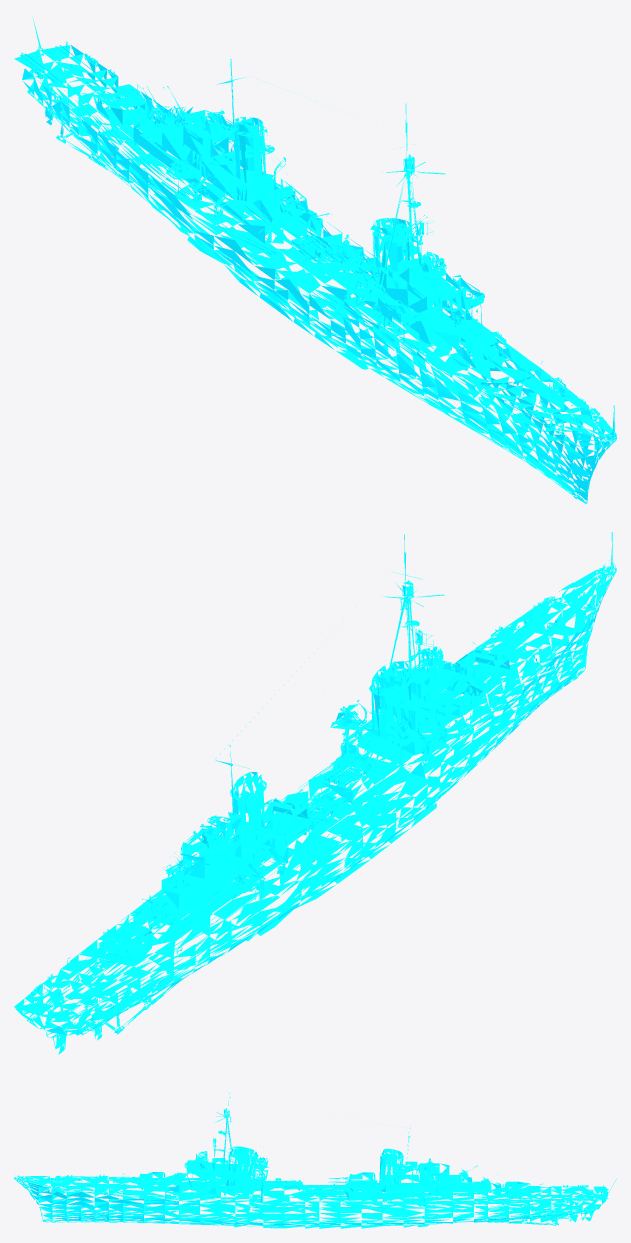
The model's file is PGSD720.glb.
3 views of the same model, one above another, from view 1: azimuth 30°, elevation 25°; view 2: azimuth 150°, elevation 25°; view 3: azimuth 270°, elevation 25° (orthographic). The views are drawn at different scales.
Visible parts, largest first — view 1: hull, turret; view 2: hull, turret; view 3: hull, turret.
Part boxes in pixels (x1=…): hull: x1=14, y1=17, x2=616, y2=503; turret: x1=86, y1=78, x2=521, y2=371; hull: x1=14, y1=532, x2=616, y2=1054; turret: x1=86, y1=629, x2=519, y2=968; hull: x1=14, y1=1093, x2=616, y2=1228; turret: x1=118, y1=1137, x2=552, y2=1198.
Bounding box in the file's own units: 1.05 × 2.64 × 10.38.
